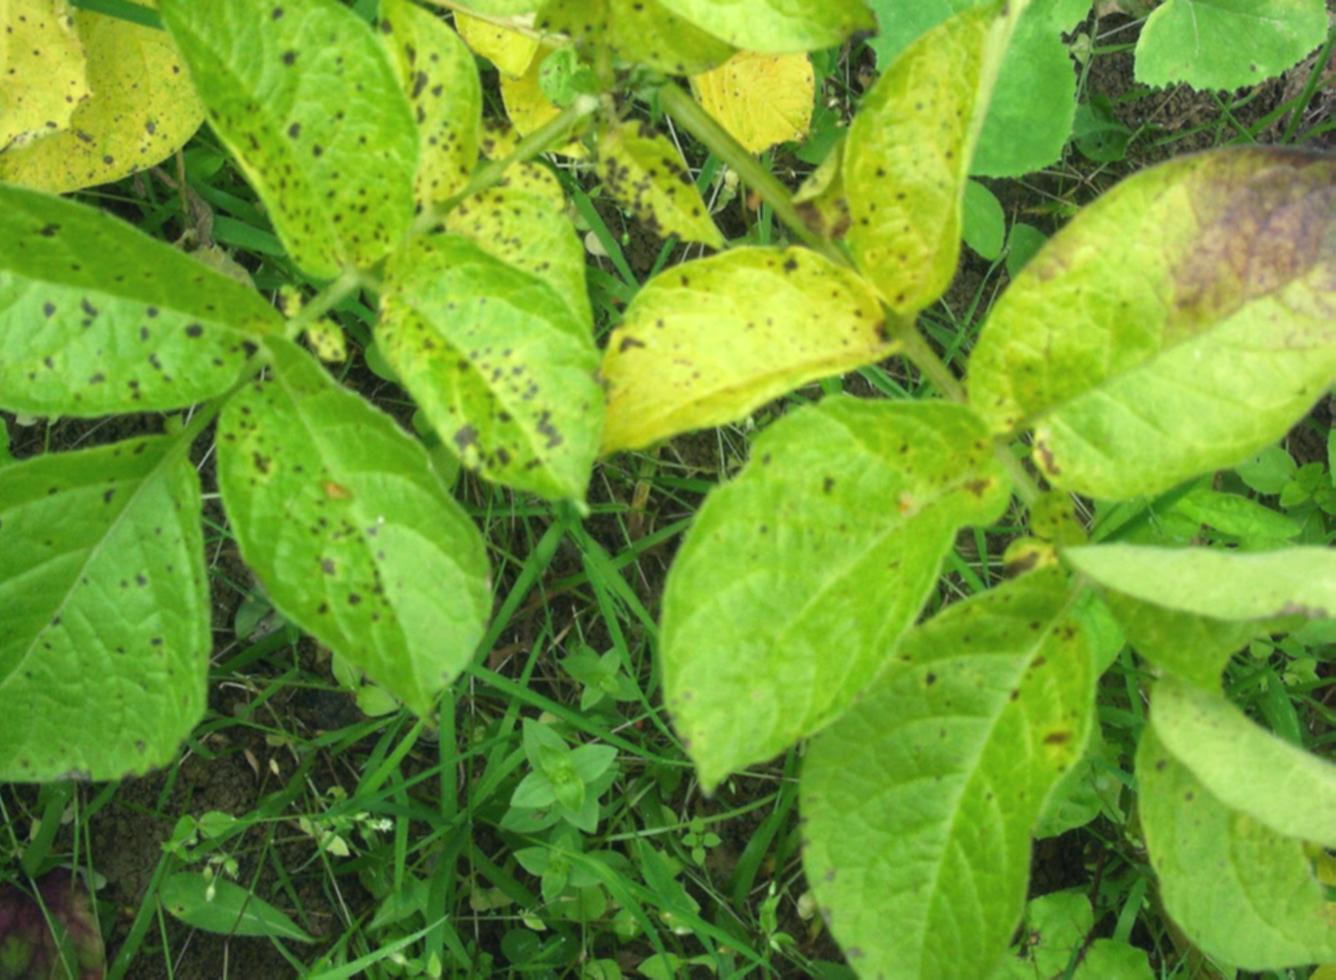Tomato Septoria leaf spot: (636, 391, 1012, 812), (229, 313, 513, 724), (179, 0, 435, 342), (372, 213, 597, 523), (0, 174, 270, 426), (570, 245, 885, 452), (835, 0, 1023, 340), (570, 107, 737, 253), (0, 0, 98, 158)
